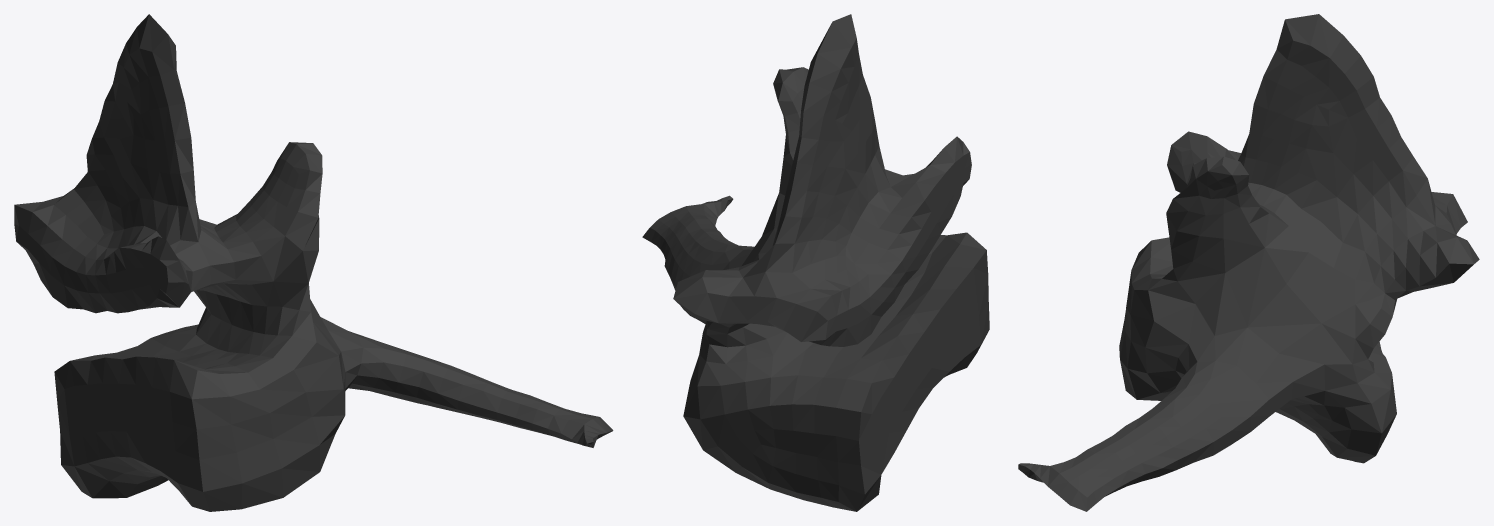
The picture shows the model from 3 angles, left to right: view 1: azimuth 30°, elevation 25°; view 2: azimuth 150°, elevation 25°; view 3: azimuth 270°, elevation 25°; orthographic projection. The views are drawn at different scales.
Parts seen in each view (by area): view 1: L5; view 2: L5; view 3: L5.
Part boxes in pixels (x1=…): L5: x1=14, y1=14, x2=613, y2=511; L5: x1=642, y1=14, x2=989, y2=511; L5: x1=1018, y1=14, x2=1479, y2=511.
Bounding box in the file's own units: 0.0124 × 0.0148 × 0.0143.
Materials: 1 (1 with a texture image).
